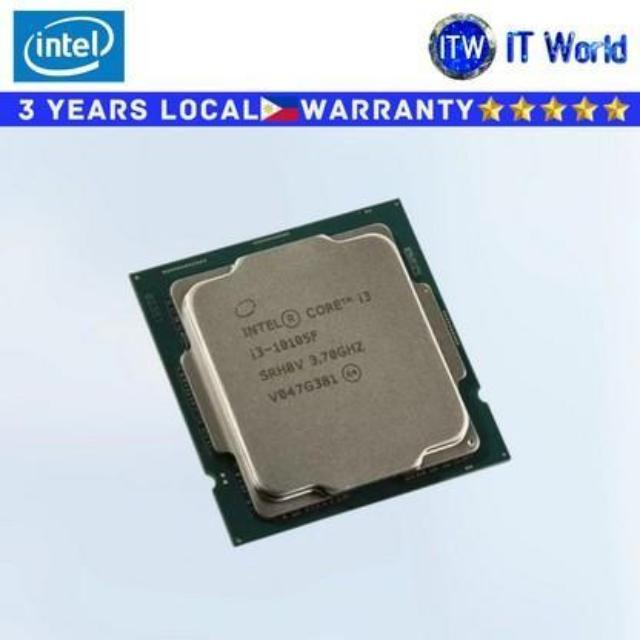CPU: (120, 196, 509, 548)
